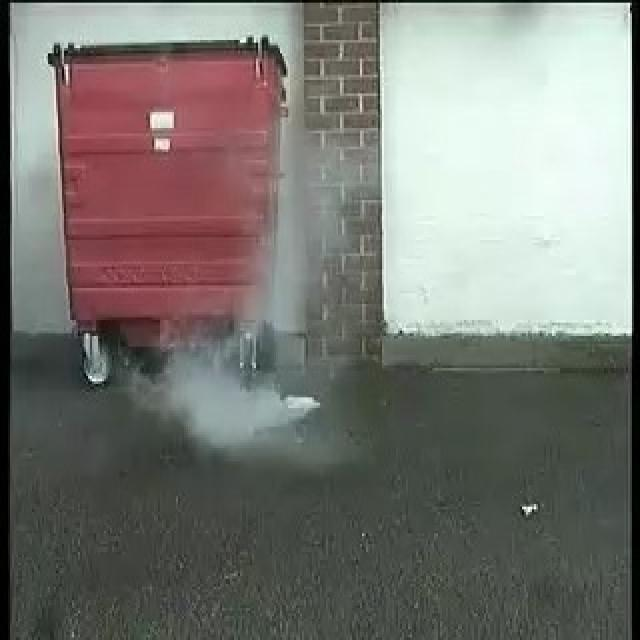Smoke: (152, 297, 309, 450)
